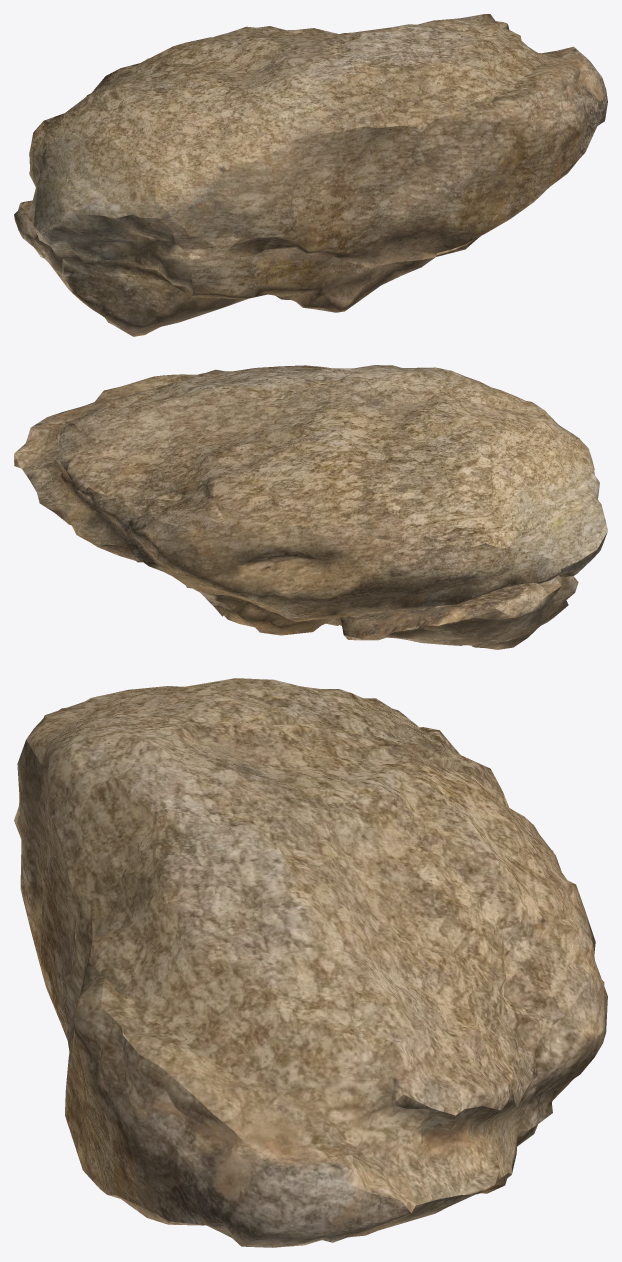
Rendered from boulder_dark.glb.
3 views of the same model, one above another, from view 1: azimuth 30°, elevation 25°; view 2: azimuth 150°, elevation 25°; view 3: azimuth 270°, elevation 25° (orthographic). The views are drawn at different scales.
Visible parts, largest first — view 1: namaqualand_boulder_05; view 2: namaqualand_boulder_05; view 3: namaqualand_boulder_05.
Boxes of the visible parts, <box> form: namaqualand_boulder_05: <box>14,14,607,336</box>; namaqualand_boulder_05: <box>14,365,607,649</box>; namaqualand_boulder_05: <box>14,678,607,1247</box>.
Bounding box in the file's own units: 1.36 × 0.5338 × 0.7462.
1 material, 1 textured.
